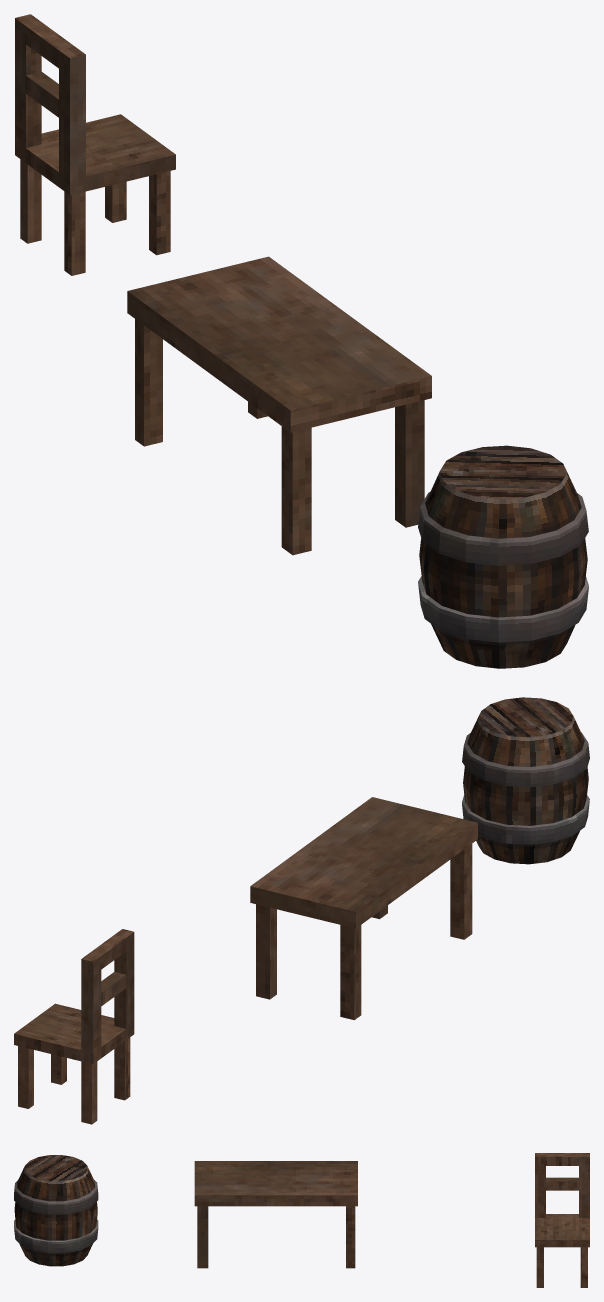
File: prop_tileset.glb
3 renders of one model, top to bottom at view 1: azimuth 30°, elevation 25°; view 2: azimuth 150°, elevation 25°; view 3: azimuth 270°, elevation 25°, orthographic. The views are drawn at different scales.
Parts seen in each view (by area): view 1: table-col, barrel-col, chair-col; view 2: table-col, barrel-col, chair-col; view 3: table-col, barrel-col, chair-col.
Boxes of the visible parts, box(x1,y1,x2,y2) form: table-col: box(127, 256, 431, 555); barrel-col: box(418, 445, 588, 668); chair-col: box(15, 14, 175, 275); table-col: box(250, 797, 477, 1020); barrel-col: box(462, 697, 589, 864); chair-col: box(14, 929, 134, 1124); table-col: box(194, 1161, 357, 1268); barrel-col: box(14, 1155, 98, 1266); chair-col: box(535, 1153, 589, 1287).
Bounding box in the file's own units: 1.06 × 1 × 4.7.
Materials: 2 (2 with a texture image).
